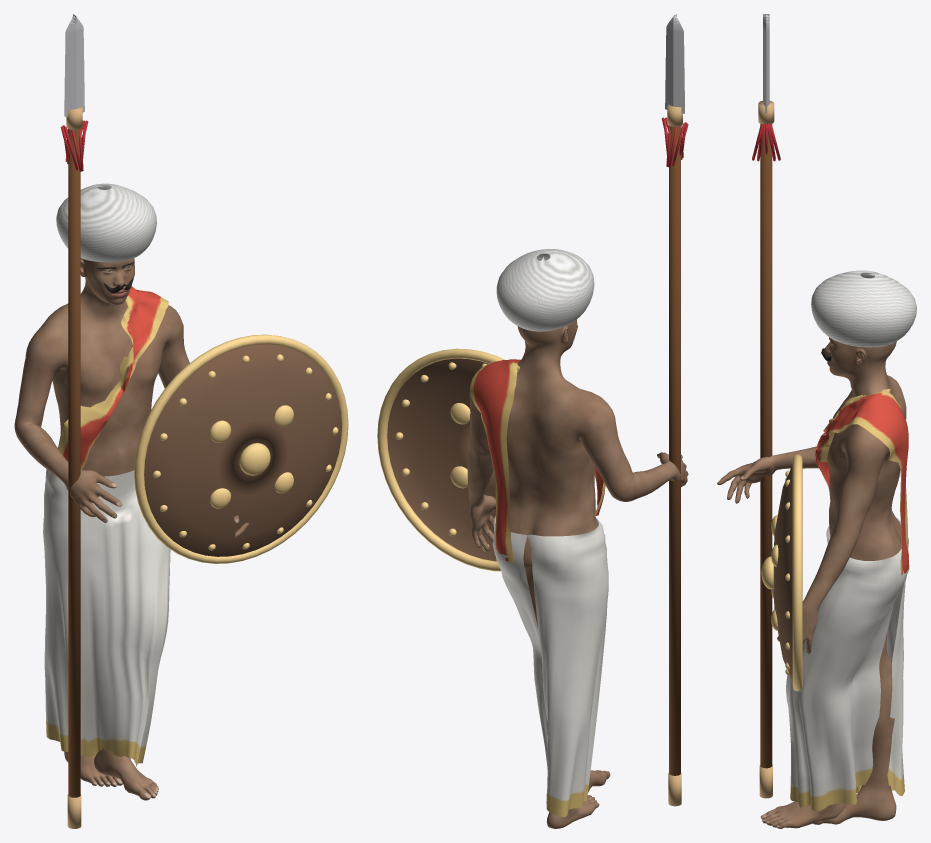
The model's file is ind_spear_white.glb.
3 renders of one model, left to right at view 1: azimuth 30°, elevation 25°; view 2: azimuth 150°, elevation 25°; view 3: azimuth 270°, elevation 25°, orthographic. The views are drawn at different scales.
Visible parts, largest first — view 1: A_ind_spear_white; view 2: A_ind_spear_white; view 3: A_ind_spear_white.
Part boxes in pixels (x1=…): A_ind_spear_white: x1=14, y1=14, x2=348, y2=828; A_ind_spear_white: x1=377, y1=14, x2=688, y2=828; A_ind_spear_white: x1=717, y1=14, x2=916, y2=828.
Size of the model in its own units: 1.02 by 2.62 by 0.6075.
Materials: 18 (9 with a texture image).
